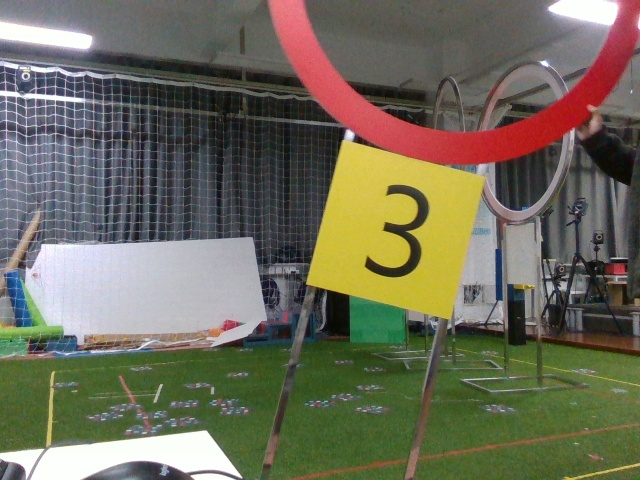target: (333, 157, 476, 298)
